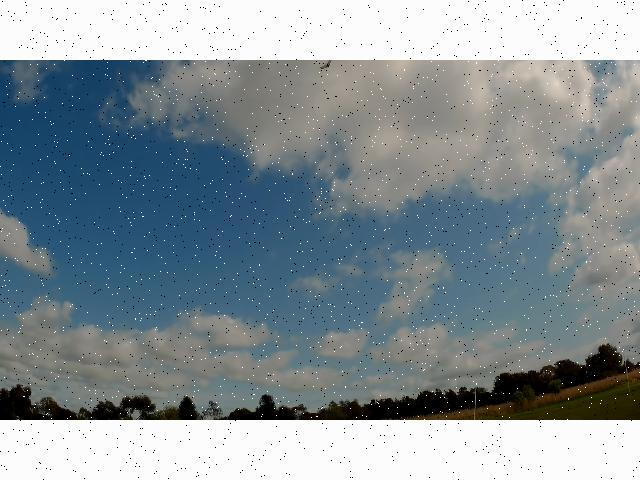Anti-Drone: (314, 61, 340, 83)
